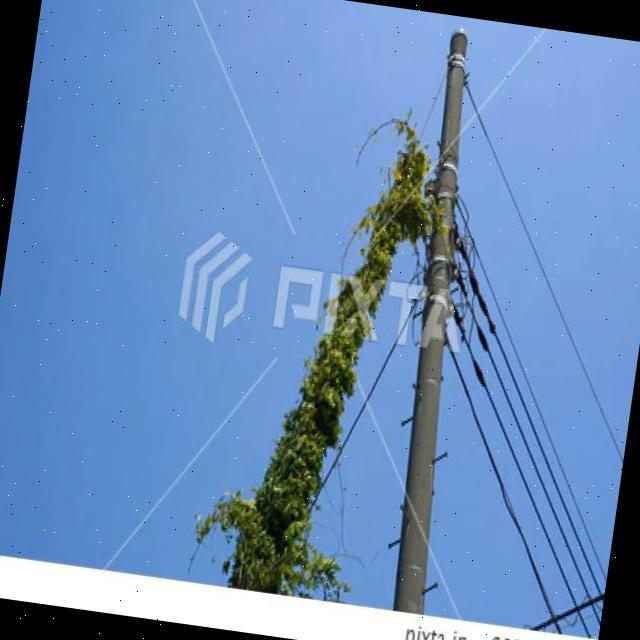critical vegetation: (320, 15, 516, 362)
